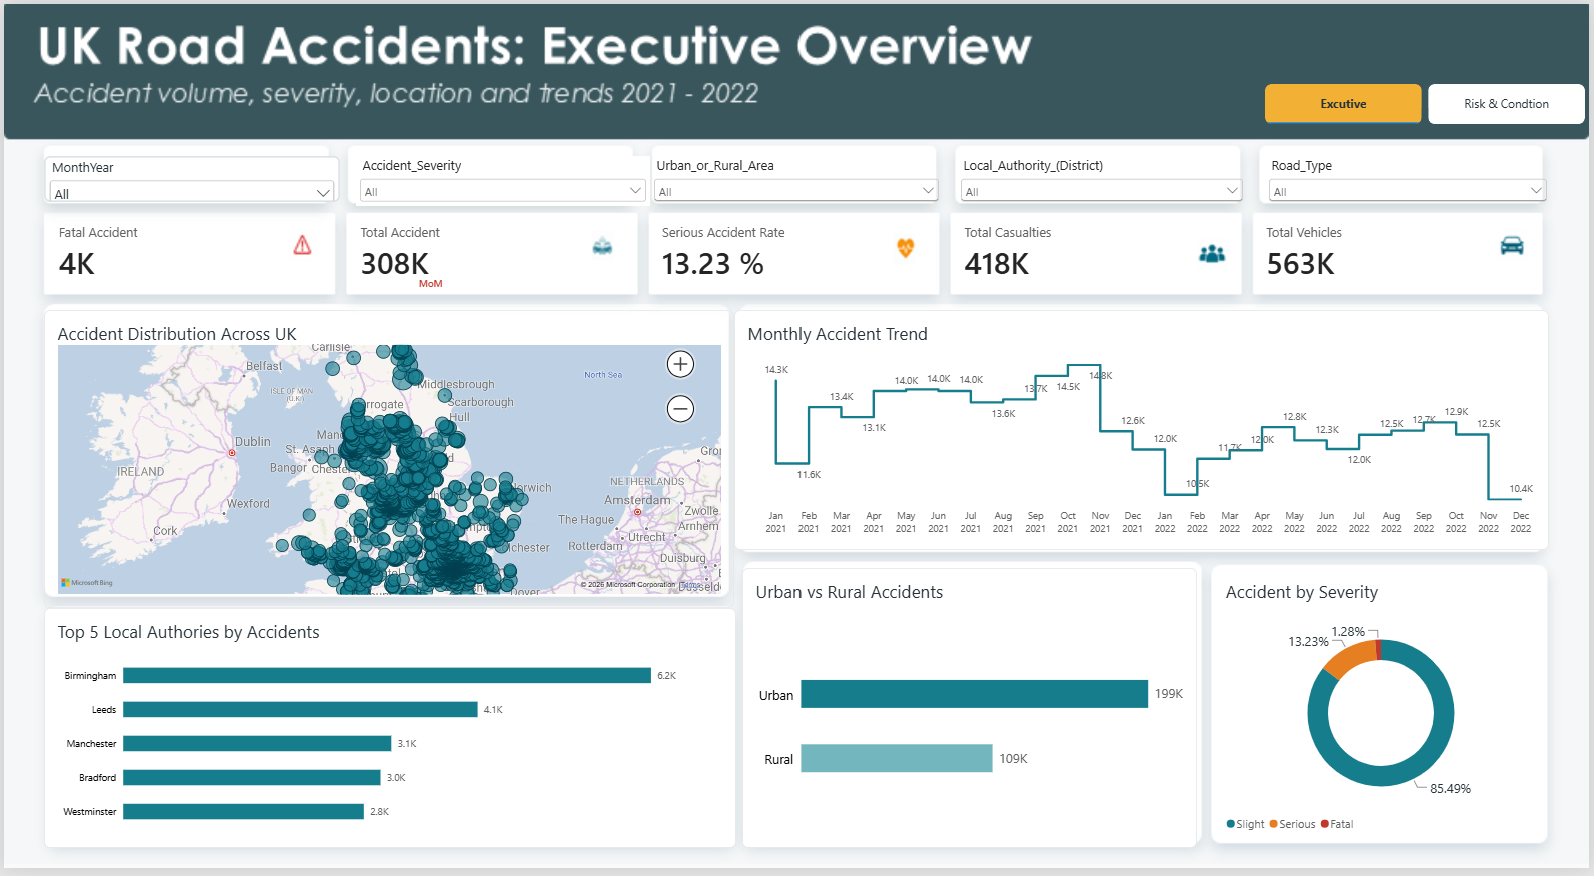

This screenshot's page, from the dashboard's own definition file:
{"tool":"powerbi","page":{"name":"Excutive","canvas":[1980,1080],"ordinal":0},"visuals":[{"type":"cardVisual","fields":{"Data":["Measures_.Fatal Accident","Measures_.Total Accident","Measures_.Serious Accident Rate","Measures_.Total Casualties","Measures_.Total Vehicles"]},"box":[52.5,252.5,1877.5,117.5],"z":0},{"type":"lineChart","title":"Monthly Accident Trend","fields":{"Y":["Measures_.Total Accident"],"Category":["DateTable.MonthYear"]},"box":[912.5,382.5,1017.5,300],"z":1000},{"type":"donutChart","title":"Accident by Severity","fields":{"Y":["Measures_.Total Accident"],"Category":["Fact_Accident.Accident_Severity"]},"box":[1510,705,420,350],"z":2000},{"type":"clusteredBarChart","title":" Top 5 Local Authories by Accidents","fields":{"Y":["Measures_.Total Accident"],"Category":["Dim_Location.Local_Authority_(District)"]},"box":[50,755,865,300],"z":3000},{"type":"map","title":"Accident Distribution Across UK","fields":{"Y":["Fact_Accident.Latitude"],"X":["Fact_Accident.Longitude"],"Size":["Measures_.Total Accident"]},"box":[50,382.5,862.5,372.5],"z":4000},{"type":"clusteredBarChart","title":"Urban vs Rural Accidents","fields":{"Category":["Dim_Location.Urban_or_Rural_Area"],"Y":["Measures_.Total Accident"]},"box":[922.5,705,567.5,350],"z":5000},{"type":"slicer","fields":{"Values":["DateTable.MonthYear"]},"box":[50,190,370,57.5],"z":6000},{"type":"slicer","fields":{"Values":["Fact_Accident.Accident_Severity"]},"box":[440,190,367.5,62.5],"z":7000},{"type":"slicer","fields":{"Values":["Dim_Location.Urban_or_Rural_Area"]},"box":[807.5,190,365,62.5],"z":8000},{"type":"slicer","fields":{"Values":["Dim_Location.Local_Authority_(District)"]},"box":[1190,190,362.5,57.5],"z":9000},{"type":"slicer","fields":{"Values":["Dim_Road.Road_Type"]},"box":[1575,190,357.5,60],"z":10000},{"type":"cardVisual","fields":{"Data":["Measures_.MoM Accident Display"]},"box":[502,312,305,72.5],"z":11000},{"type":"pageNavigator","box":[1575,100,400,50],"z":12000}]}

Visuals, with their boxes in screenshot pixels (x1, y1, x2, y2), scaled from the page's 1980x1080 canvas onto the 1594x876 screenshot:
cardVisual - Measures_.Fatal Accident x Measures_.Total Accident: x1=42, y1=205, x2=1554, y2=300
"Monthly Accident Trend" lineChart: x1=735, y1=310, x2=1554, y2=554
"Accident by Severity" donutChart: x1=1216, y1=572, x2=1554, y2=856
" Top 5 Local Authories by Accidents" clusteredBarChart: x1=40, y1=612, x2=737, y2=856
"Accident Distribution Across UK" map: x1=40, y1=310, x2=735, y2=612
"Urban vs Rural Accidents" clusteredBarChart: x1=743, y1=572, x2=1200, y2=856
slicer - DateTable.MonthYear: x1=40, y1=154, x2=338, y2=201
slicer - Fact_Accident.Accident_Severity: x1=354, y1=154, x2=650, y2=205
slicer - Dim_Location.Urban_or_Rural_Area: x1=650, y1=154, x2=944, y2=205
slicer - Dim_Location.Local_Authority_(District): x1=958, y1=154, x2=1250, y2=201
slicer - Dim_Road.Road_Type: x1=1268, y1=154, x2=1556, y2=203
cardVisual - Measures_.MoM Accident Display: x1=404, y1=253, x2=650, y2=312
pageNavigator: x1=1268, y1=81, x2=1590, y2=122
